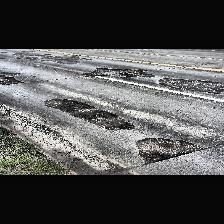pothole: (74, 110, 118, 119), (62, 98, 94, 110), (142, 153, 166, 163)
